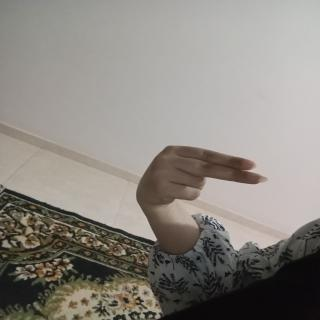AYN: (121, 138, 280, 216)
